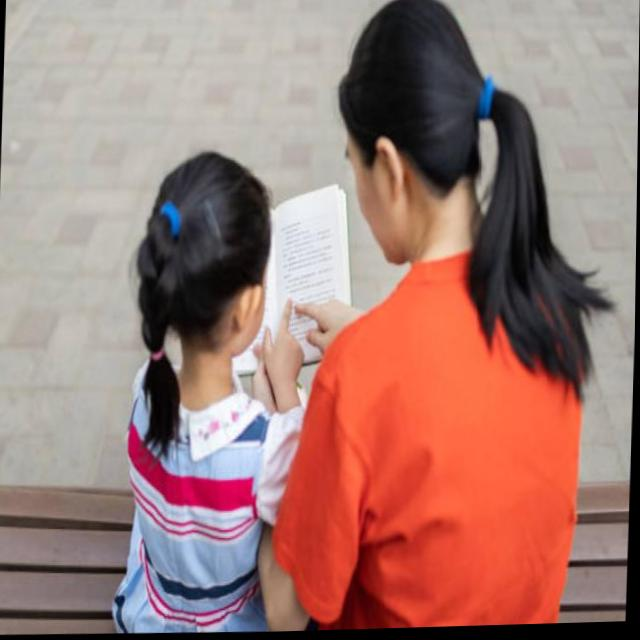no helmet: (329, 0, 503, 277), (137, 149, 276, 368)
